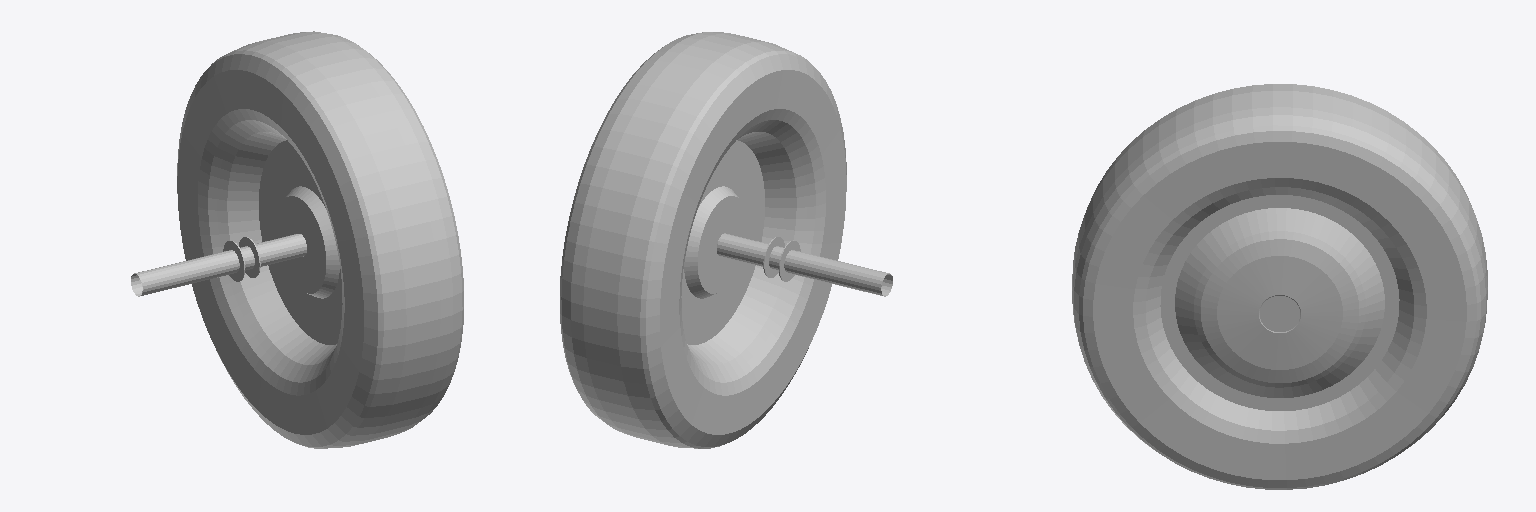
The model's file is vocho_rueda2.obj.
3 views of the same model, side by side, from view 1: azimuth 30°, elevation 25°; view 2: azimuth 150°, elevation 25°; view 3: azimuth 270°, elevation 25° (orthographic).
Parts seen in each view (by area): view 1: VW_Beetle.077_Cube.078; view 2: VW_Beetle.077_Cube.078; view 3: VW_Beetle.077_Cube.078.
Boxes of the visible parts, x1=… form: VW_Beetle.077_Cube.078: x1=131, y1=31, x2=463, y2=448; VW_Beetle.077_Cube.078: x1=560, y1=32, x2=892, y2=448; VW_Beetle.077_Cube.078: x1=1072, y1=84, x2=1487, y2=489.
Bounding box in the file's own units: 0.4407 × 0.6645 × 0.6645.